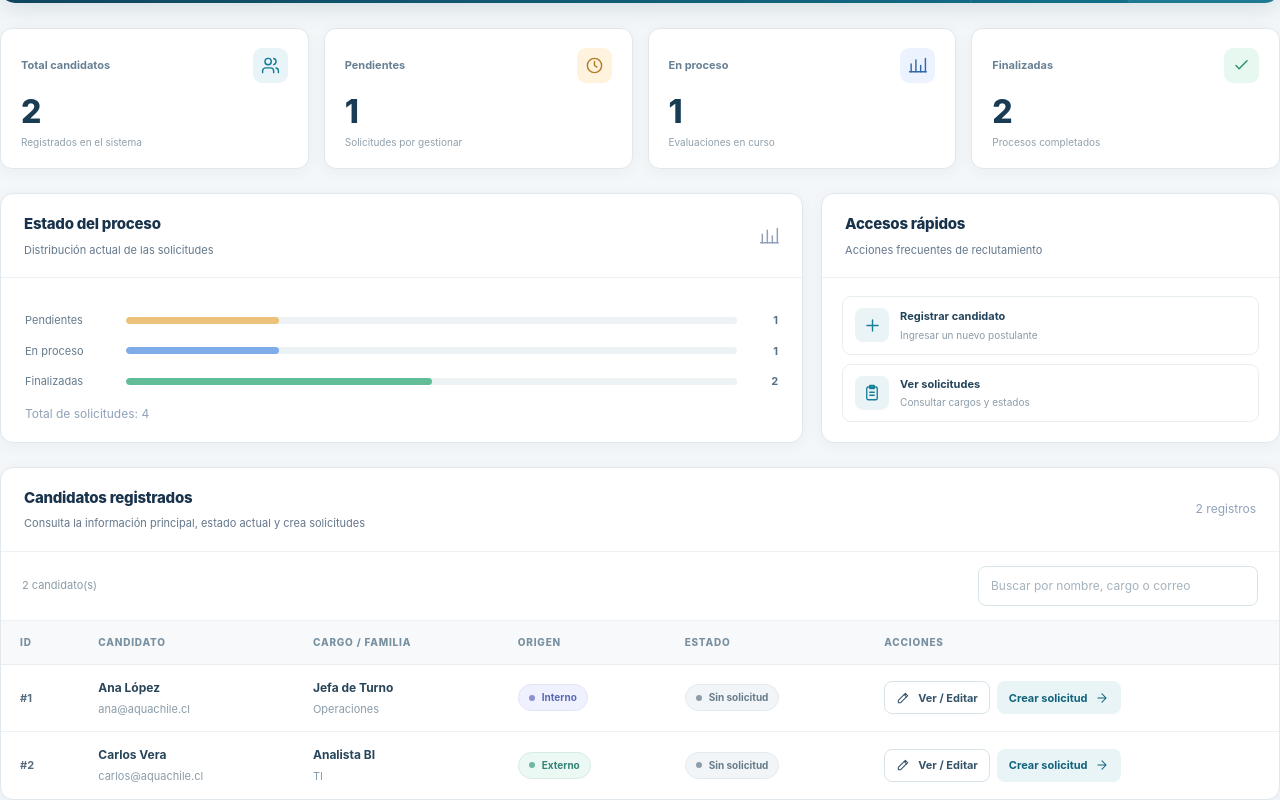
it: Pruebas integradas - Dashboard › debe filtrar el listado de candidatos por búsqueda ignorando tildes
The width and height of the screenshot is (1280, 800).
(page scrolled)
Check: the text "Ana López" is shown, box [98,680,160,694]
Type "lopez" into the search field named "buscar candidatos" at (1118, 586), box [978,566,1258,606]
(page scrolled)
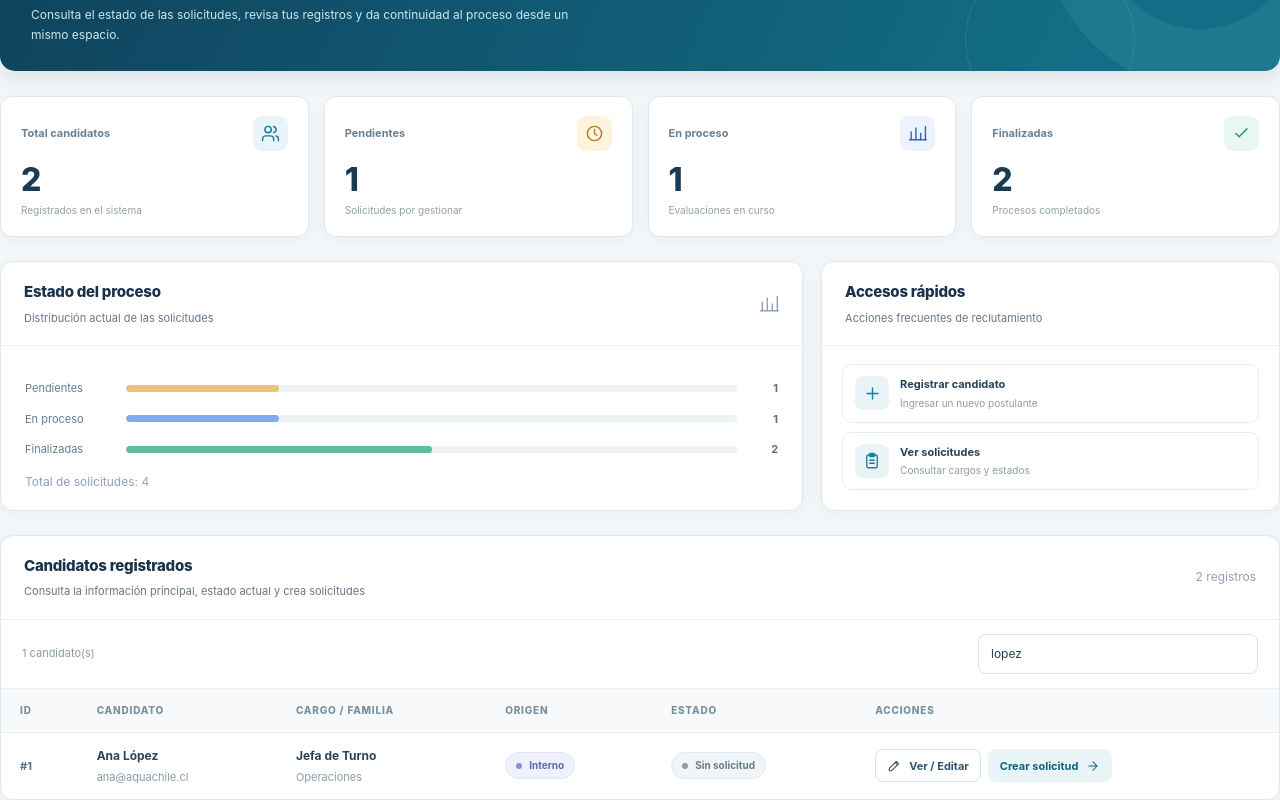
Check: the text "Ana López" is shown, box [97,748,158,762]
Check: the text "Carlos Vera" is gone
Check: the text "1 candidato(s)" is shown, box [22,645,95,662]
Replace the text in the search field named "buscar candidatos" with "inexistente" at (1118, 654), box [978,634,1258,674]
(page scrolled)
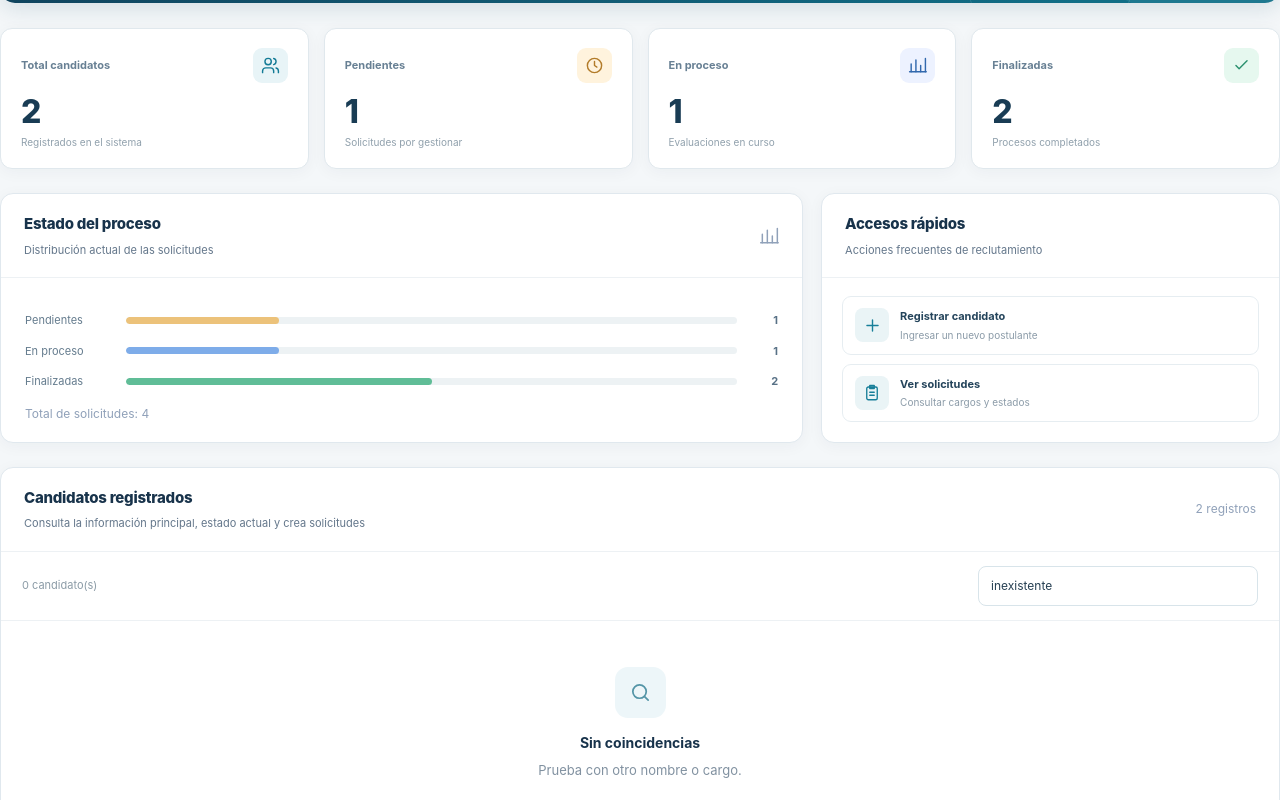
Check: the text "Sin coincidencias" is shown, box [580,734,700,750]
